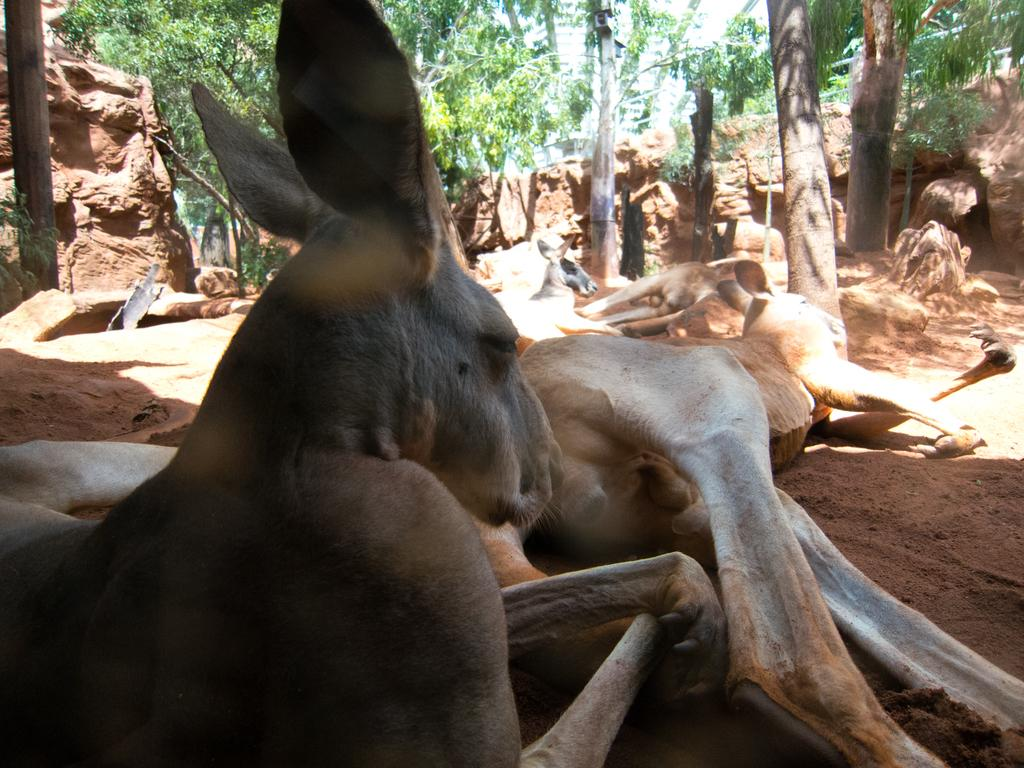kangaroo: (0, 0, 727, 767), (664, 258, 972, 480), (579, 246, 746, 378), (500, 229, 616, 352)
